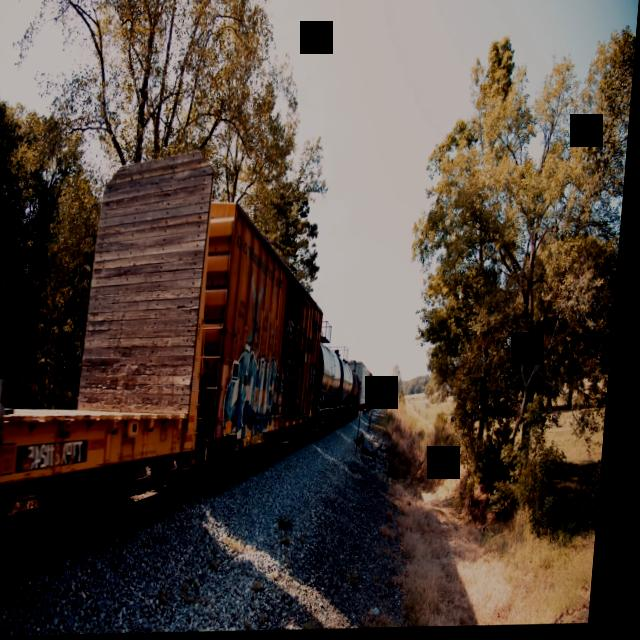boxcar: (198, 194, 340, 484)
flatcar_bulkhead: (0, 145, 227, 562)
tank: (317, 332, 353, 438)
